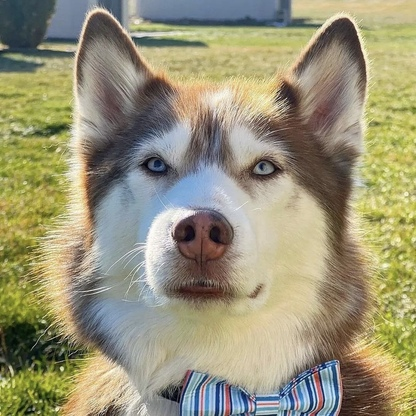husky: (36, 2, 408, 416)
